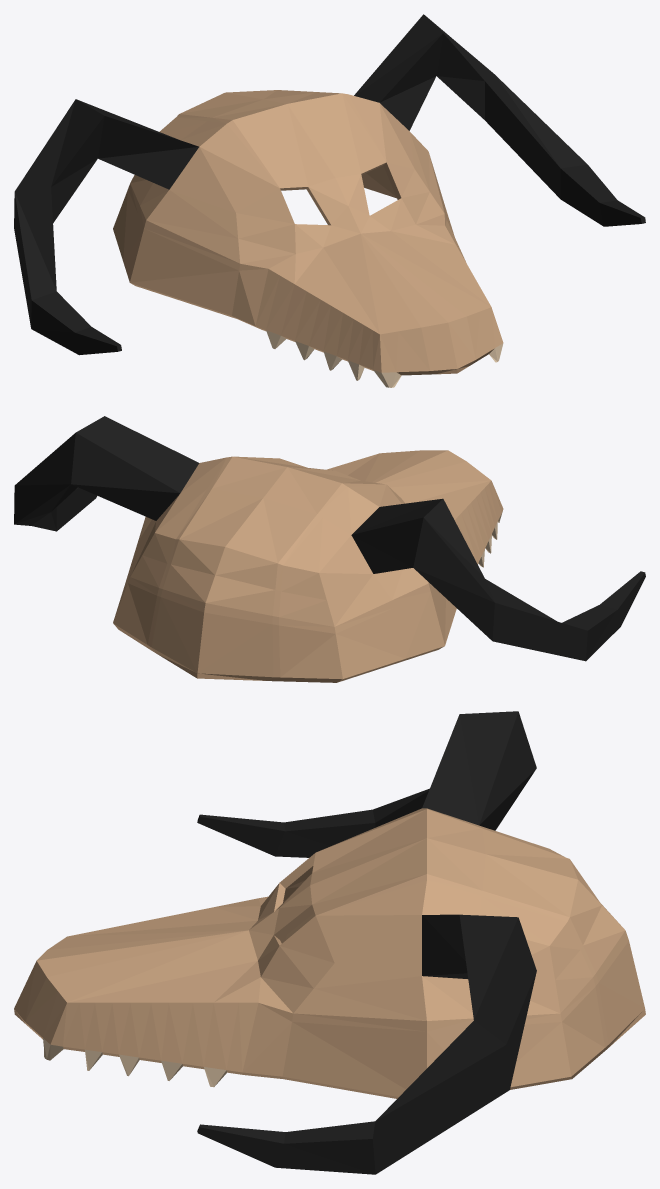
Rendered from summoner_hat.dae.
3 views of the same model, one above another, from view 1: azimuth 30°, elevation 25°; view 2: azimuth 150°, elevation 25°; view 3: azimuth 270°, elevation 25° (orthographic). The views are drawn at different scales.
Visible parts, largest first — view 1: Cube; view 2: Cube; view 3: Cube.
Boxes of the visible parts, box(x1,y1,x2,y2) form: Cube: box(14, 14, 645, 387); Cube: box(14, 416, 645, 682); Cube: box(14, 711, 645, 1174).
Size of the model in its own units: 3.47 by 2.81 by 1.06.
1 material, 1 textured.
